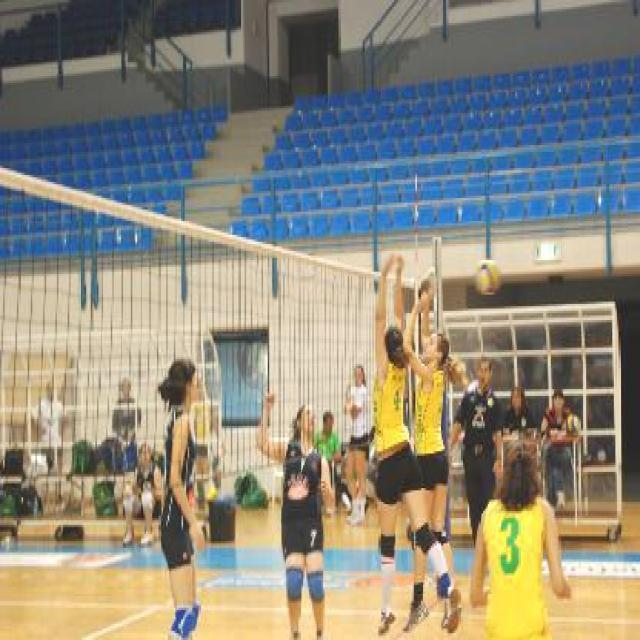volleyball: (473, 261, 505, 296)
